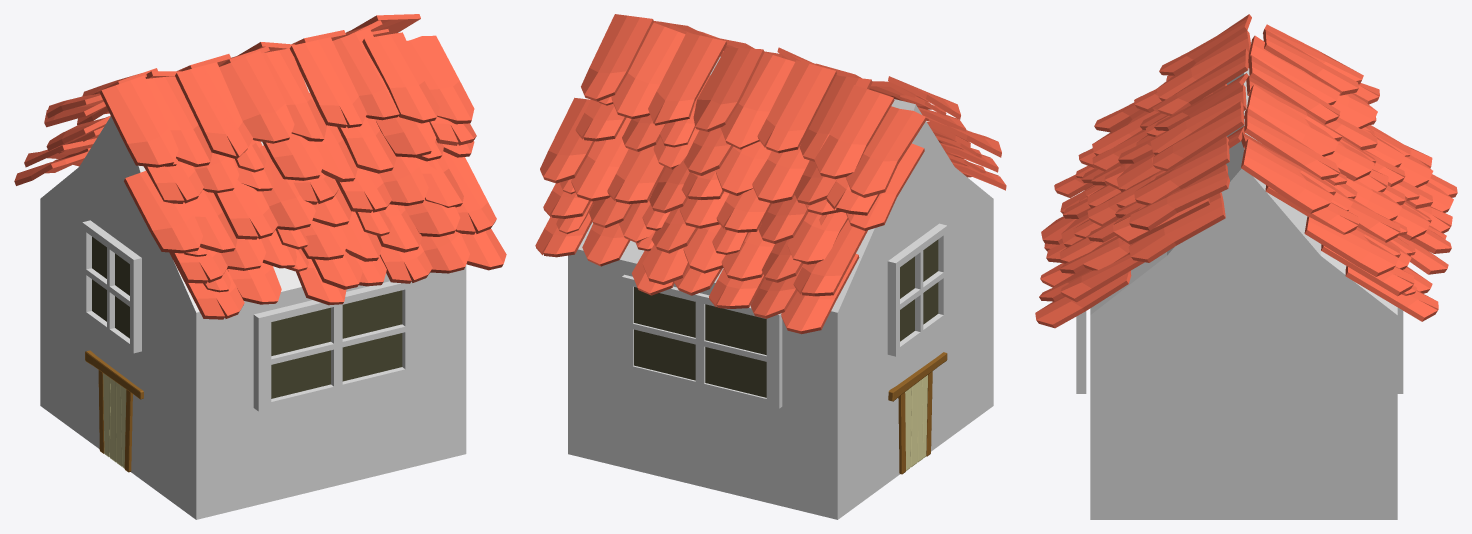
Rendered from ORHouse.fbx.
3 views of the same model, side by side, from view 1: azimuth 30°, elevation 25°; view 2: azimuth 150°, elevation 25°; view 3: azimuth 270°, elevation 25° (orthographic).
Visible parts, largest first — view 1: Tejas.001, ORHouse, WindowsMat.004, Tejas.002, WindowsMat.003, Door.001; view 2: Tejas.002, ORHouse, WindowsMat.005, WindowsMat.003, Tejas.001, Door.001; view 3: ORHouse, Tejas.002, Tejas.001, WindowsMat.004, WindowsMat.005.
Boxes of the visible parts, <box> form: Tejas.001: <box>100,28,506,319</box>; ORHouse: <box>40,80,466,519</box>; WindowsMat.004: <box>253,281,416,411</box>; Tejas.002: <box>14,14,420,185</box>; WindowsMat.003: <box>82,220,141,353</box>; Door.001: <box>85,350,143,472</box>; Tejas.002: <box>535,14,926,334</box>; ORHouse: <box>568,56,993,519</box>; WindowsMat.005: <box>621,274,782,408</box>; WindowsMat.003: <box>887,223,947,356</box>; Tejas.001: <box>654,21,1006,190</box>; Door.001: <box>888,352,947,474</box>; ORHouse: <box>1090,68,1397,519</box>; Tejas.002: <box>1241,24,1457,321</box>; Tejas.001: <box>1035,14,1251,328</box>; WindowsMat.004: <box>1076,311,1086,393</box>; WindowsMat.005: <box>1397,307,1403,393</box>.
Size of the model in its own units: 73.71 by 81.01 by 82.22.
